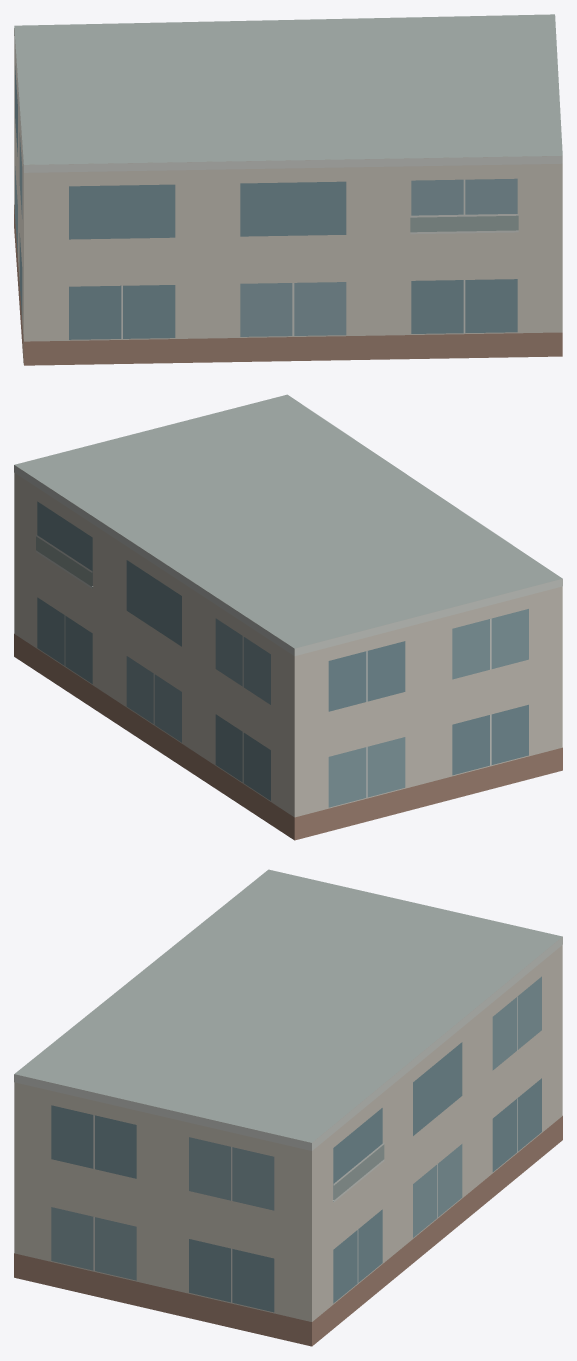
File: survey-upis-32870310.glb
3 views of the same model, one above another, from view 1: azimuth 30°, elevation 25°; view 2: azimuth 150°, elevation 25°; view 3: azimuth 270°, elevation 25° (orthographic). The views are drawn at different scales.
Visible parts, largest first — view 1: survey-upis-32870310.tmp; view 2: survey-upis-32870310.tmp; view 3: survey-upis-32870310.tmp.
Part boxes in pixels (x1,y1,x2,y2): survey-upis-32870310.tmp: (14, 14, 562, 365); survey-upis-32870310.tmp: (14, 394, 562, 840); survey-upis-32870310.tmp: (14, 869, 562, 1346).
Size of the model in its own units: 17.59 by 6.1 by 14.91.
